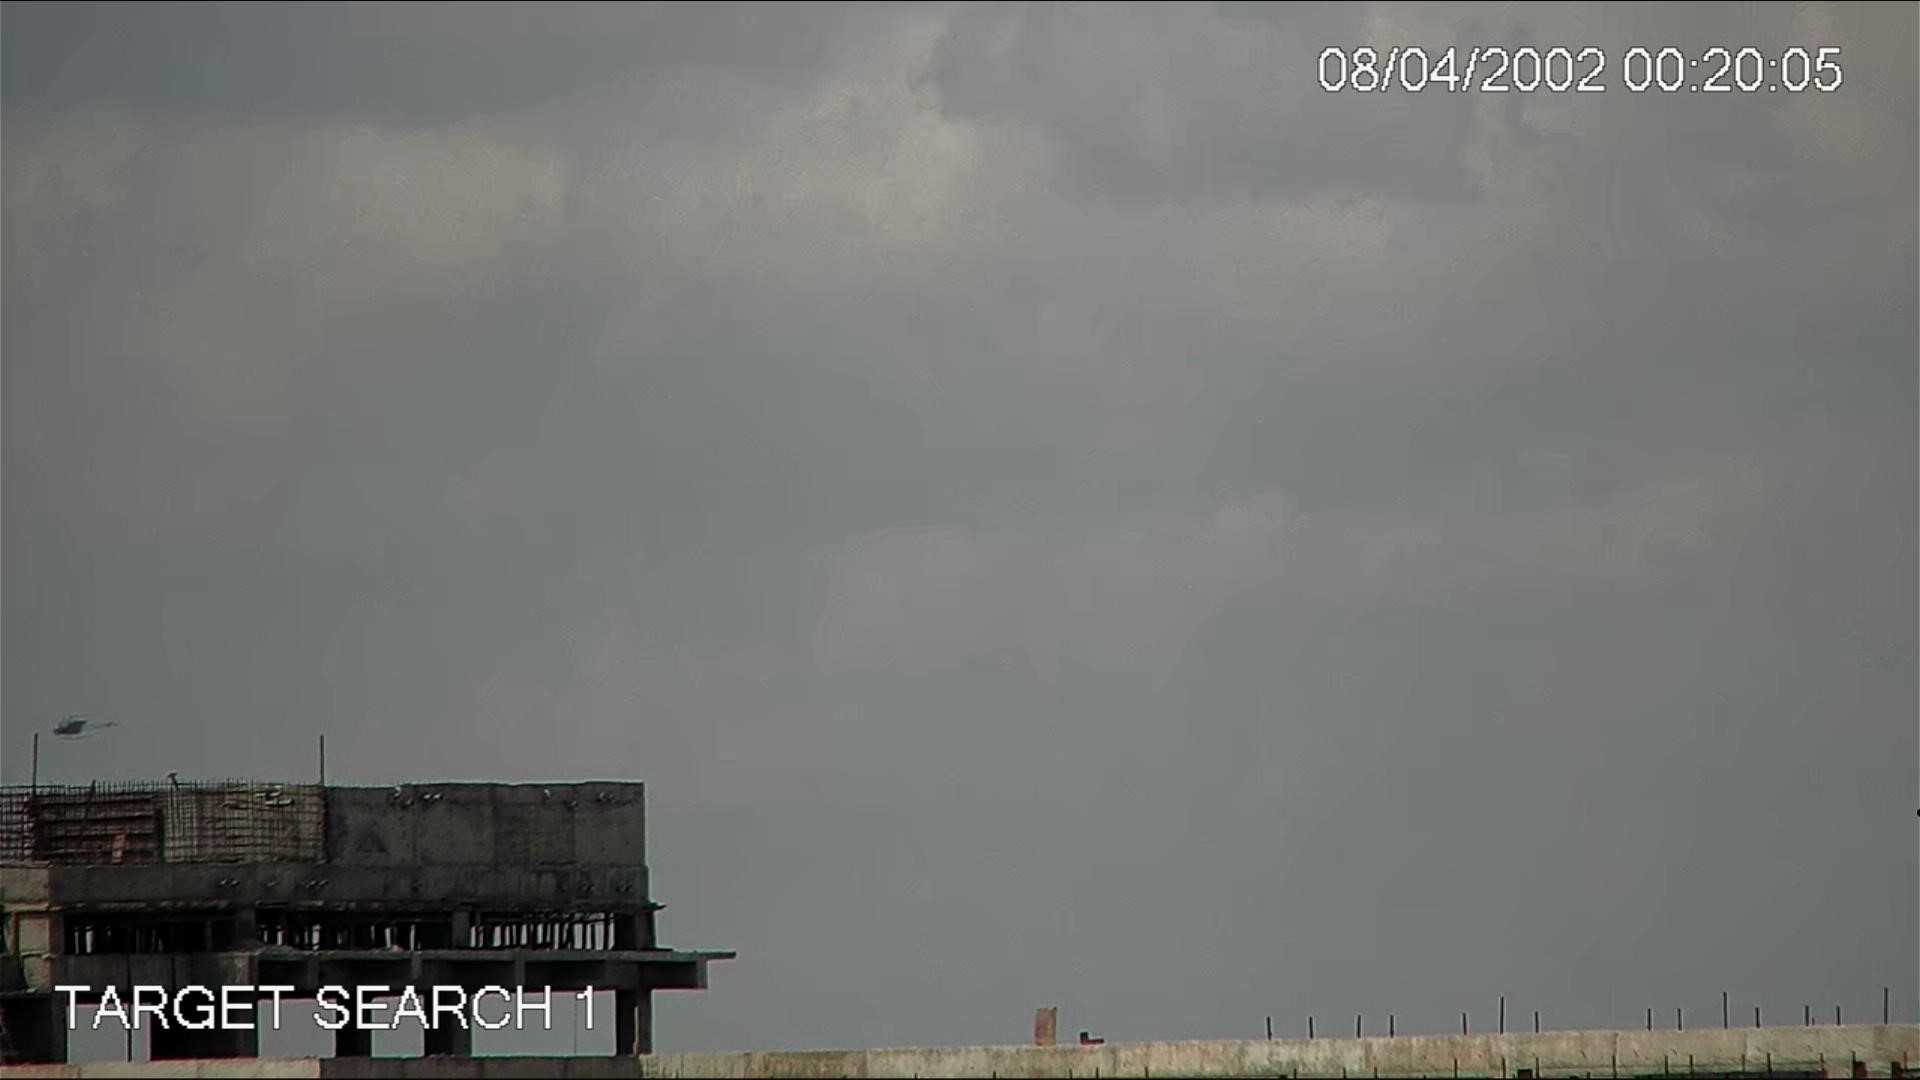SU_30: (50, 709, 123, 740)
